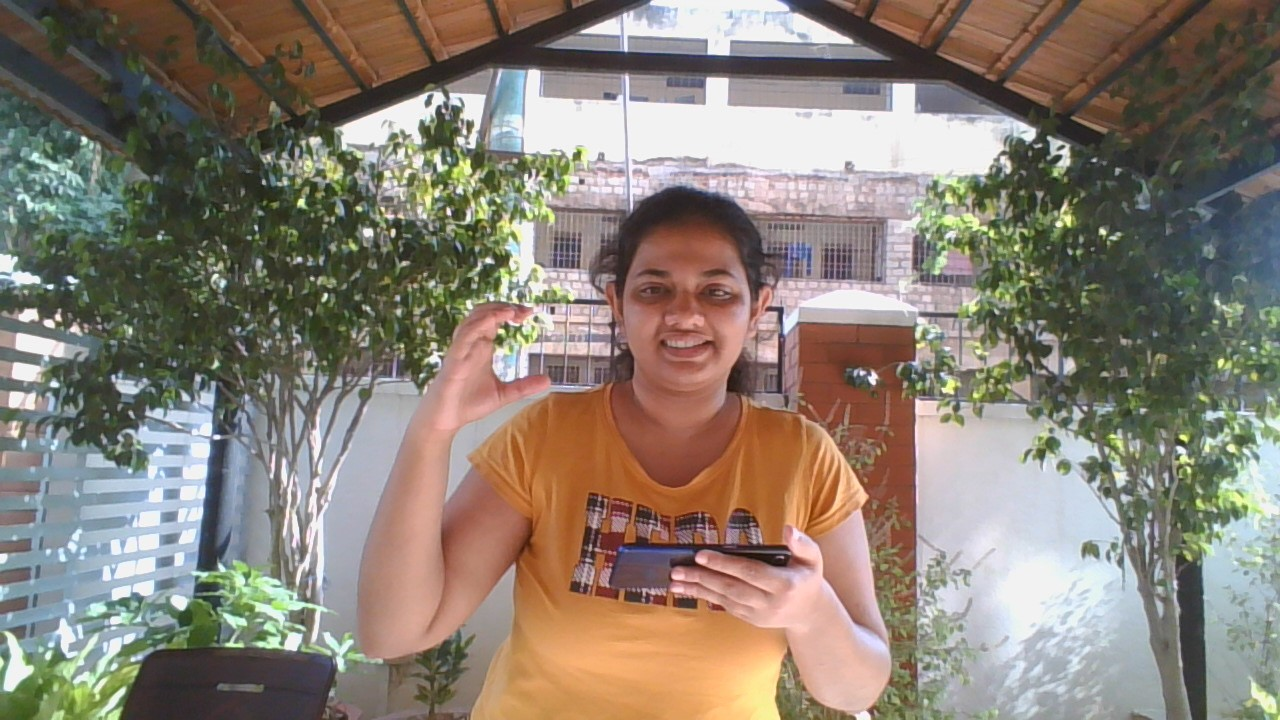c: (408, 288, 560, 465)
